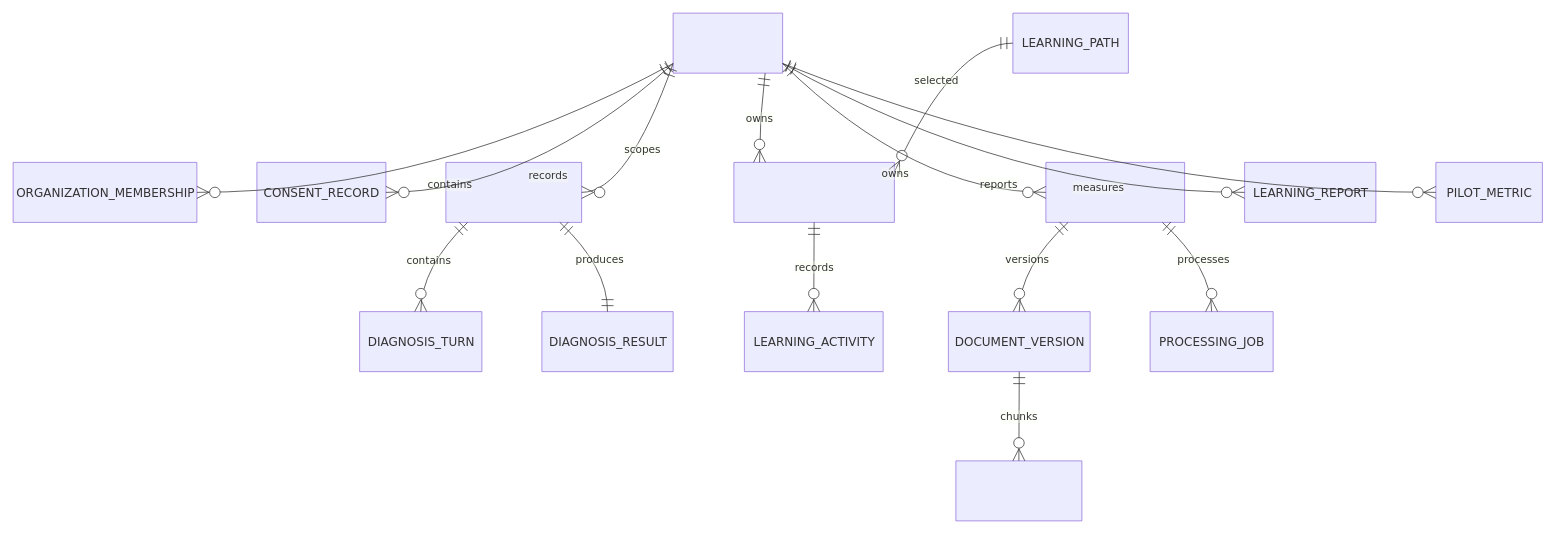
Some shapes in this 1556 by 534 pixel diagram are drawn without their labels. The centre of each missing label's shape, as x and y in pixels:
"DIAGNOSIS_SESSION" belongs at [513,192].
"DOCUMENT_NODE" belongs at [1018,490].
"LEARNING_ENROLLMENT" belongs at [813,192].
"ORGANIZATION" belongs at [727,42].
"SOURCE_DOCUMENT" belongs at [1115,192].
